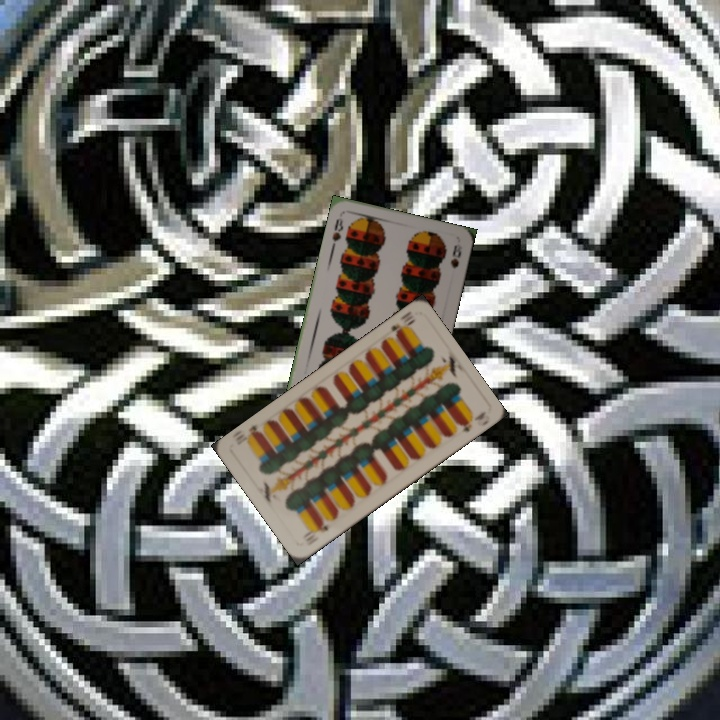E10: (387, 315, 418, 340), (302, 518, 331, 544)
S8: (327, 213, 346, 252)
